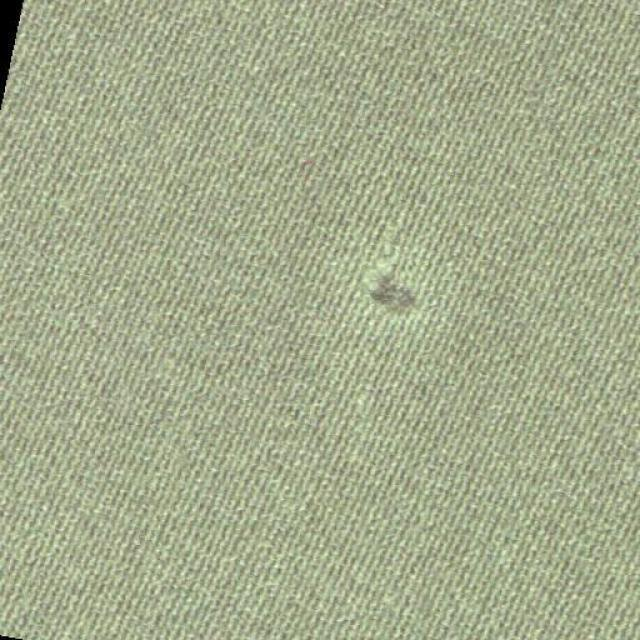other: (301, 226, 472, 346)
